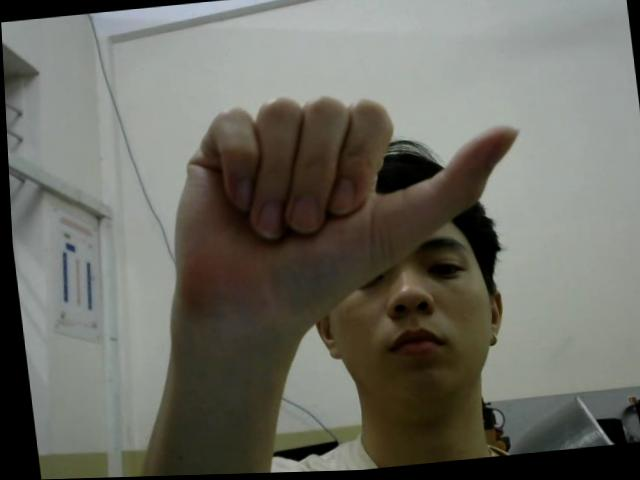A: (152, 80, 538, 336)
